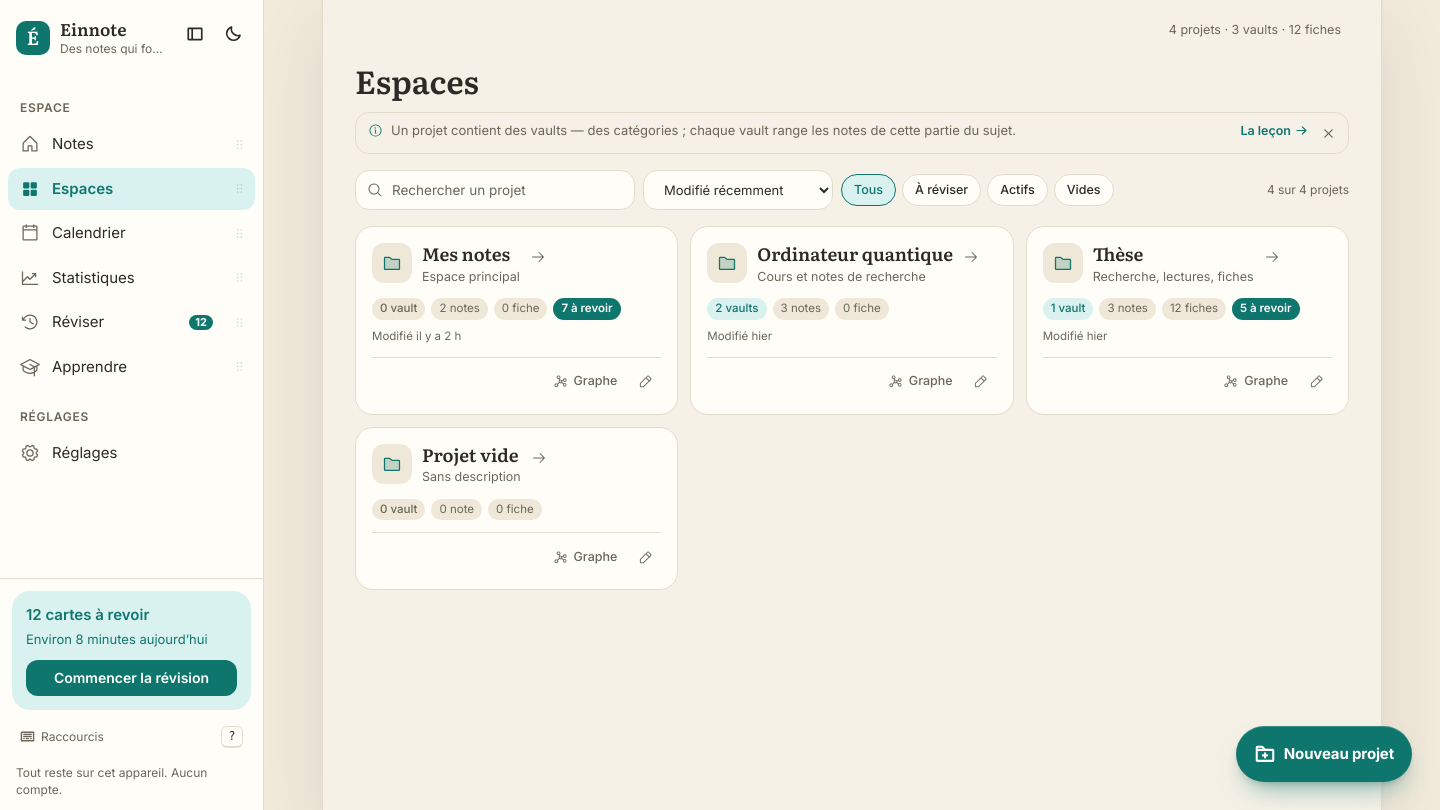
Test: Espaces — filtres › filtre par état : les projets vides ne sont pas les projets actifs
Click the button "Vides". click: (1084, 190)
box: [1054,174,1114,206]
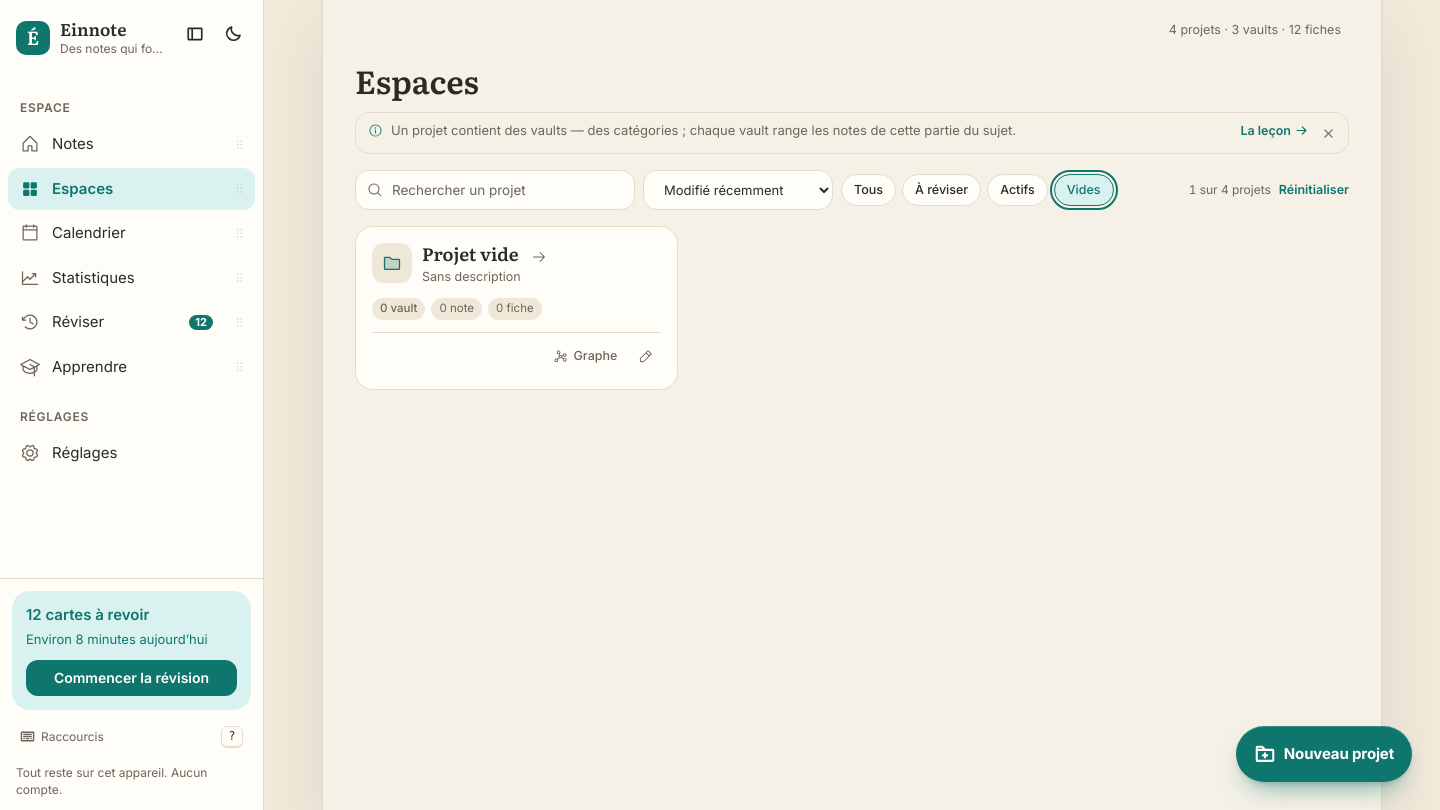
expect the button with aria-label "Ouvrir le projet Projet vide" is shown: met, box [372,243,661,320]
Click the button "Actifs". click: (1017, 190)
box: [987,174,1048,206]
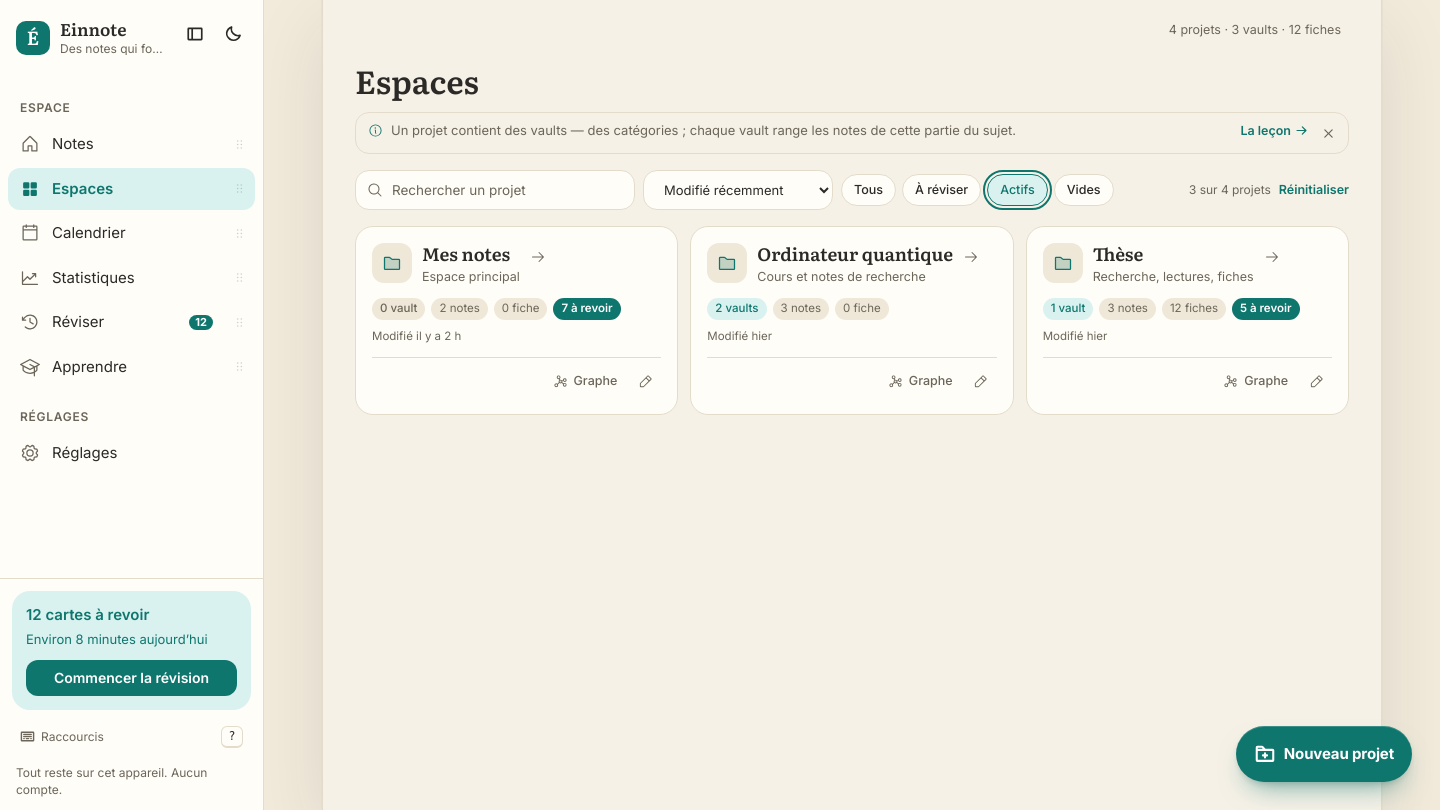
expect the button with aria-label "Ouvrir le projet Thèse" is shown: met, box [1043,243,1332,345]
